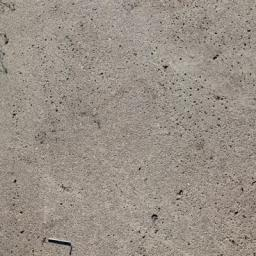FOD: (47, 235, 76, 256)
